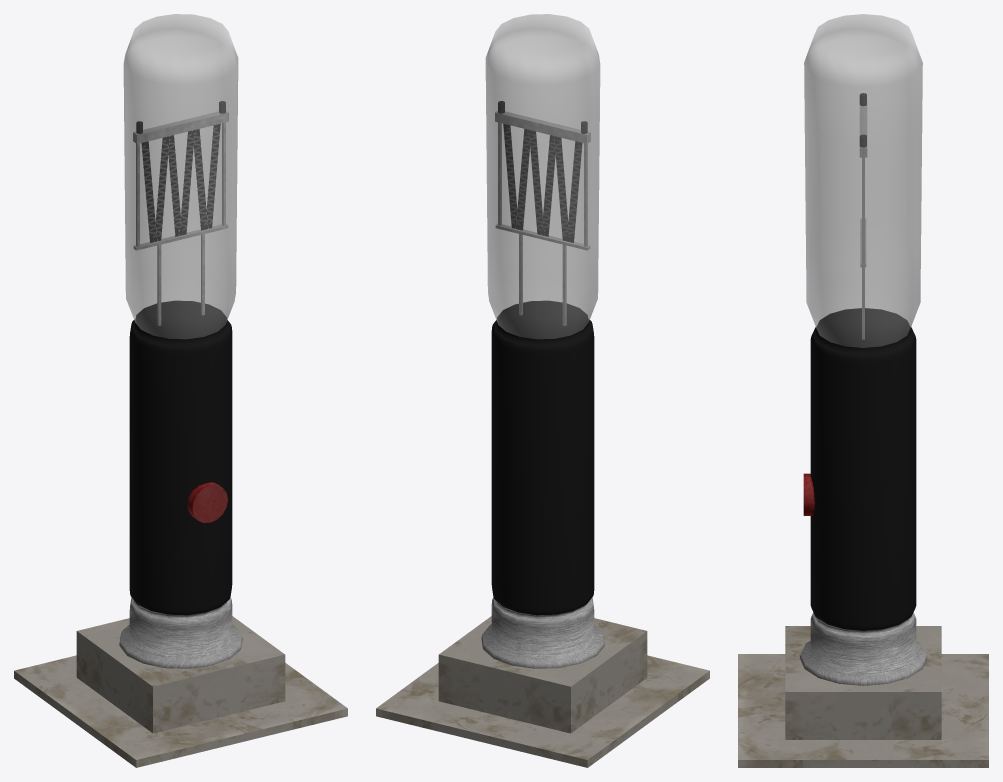
The model's file is SC_Porchlight.fbx.
3 renders of one model, left to right at view 1: azimuth 30°, elevation 25°; view 2: azimuth 150°, elevation 25°; view 3: azimuth 270°, elevation 25°, orthographic. The views are drawn at different scales.
Parts seen in each view (by area): view 1: PorchLight; view 2: PorchLight; view 3: PorchLight.
Boxes of the visible parts, x1,y1,x2,y2 form: PorchLight: (14,14,347,767); PorchLight: (376,14,709,767); PorchLight: (738,14,988,767).
Size of what is drawn, in the model's own units: 0.1745 by 0.5224 by 0.1745.
